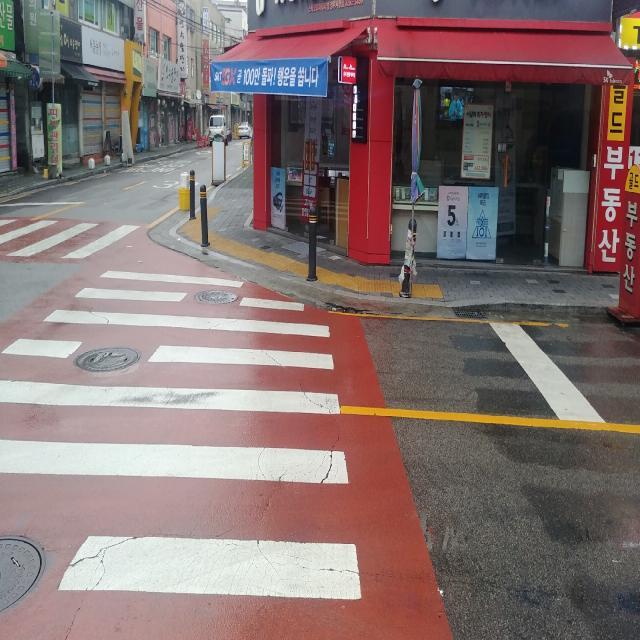횡단보도: (0, 268, 362, 603), (0, 214, 158, 268)
